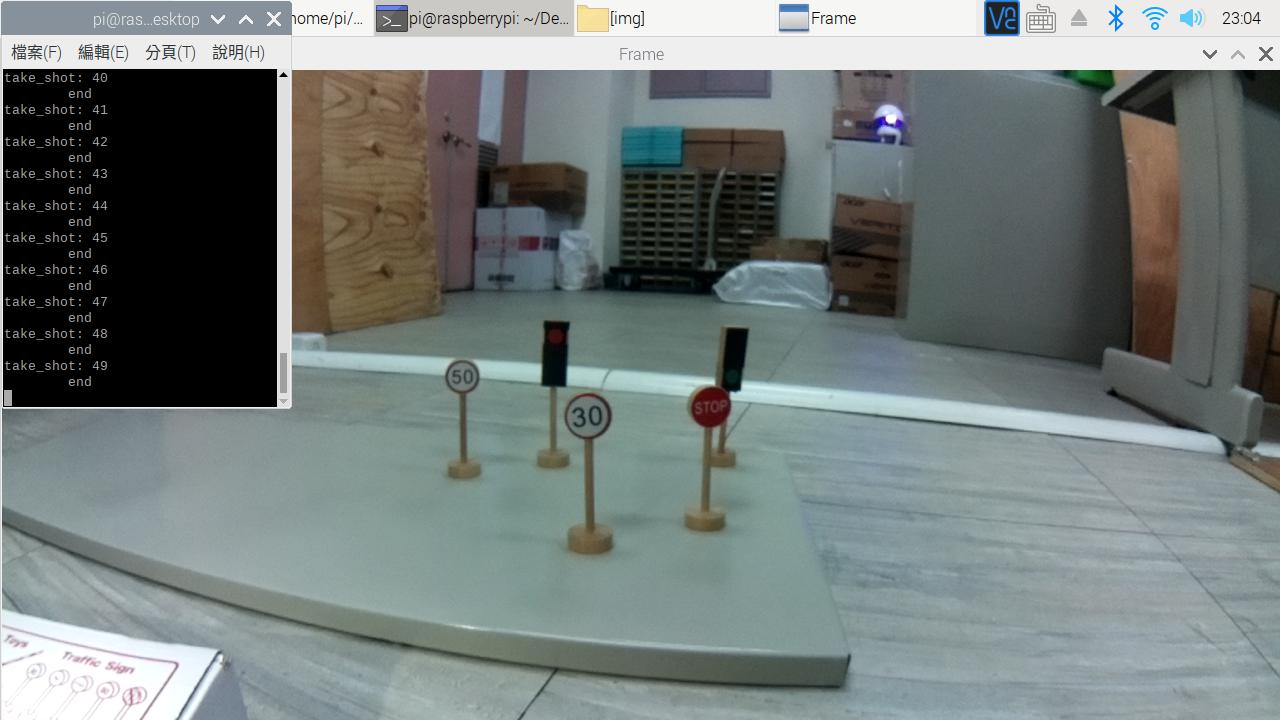Green: (722, 327, 745, 394)
Red: (538, 318, 571, 394)
Speed30: (559, 395, 612, 442)
Speed50: (445, 359, 483, 396)
Stop: (687, 381, 731, 434)
